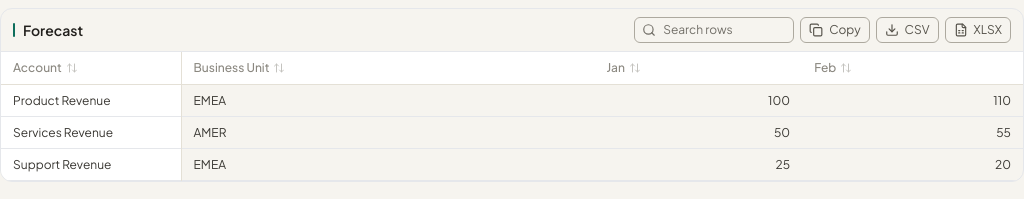
Test: DataTable › search › filters rows across all columns
In the search field: (714, 30) [634,17,794,43], type "AMER"
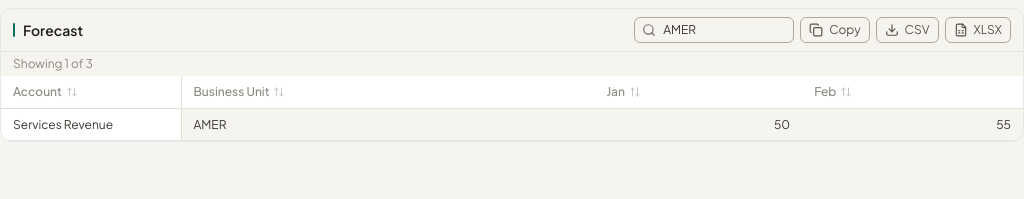
expect the text "Services Revenue" is shown: met, box [13,116,113,132]
expect the text "Product Revenue" is gone: met
